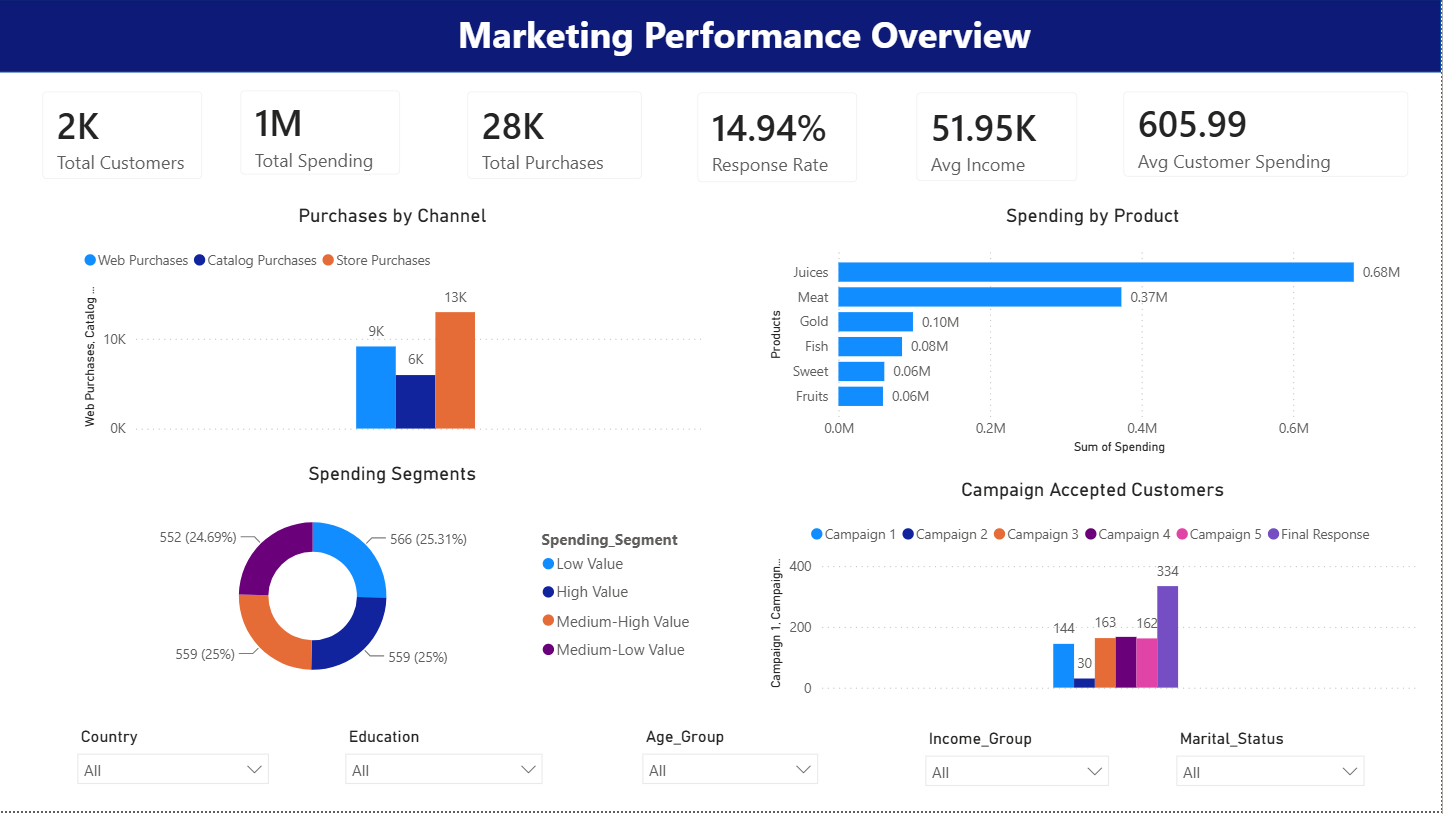

This screenshot's page, from the dashboard's own definition file:
{"tool":"powerbi","page":{"name":"Marketing Performance Overview","canvas":[1280,720],"ordinal":0},"visuals":[{"type":"cardVisual","fields":{"Data":["_Measures.Total Customers"]},"box":[21.9,64.8,176.1,112.2],"z":0},{"type":"cardVisual","fields":{"Data":["_Measures.Total Spending"]},"box":[198,63.9,176.5,110],"z":1000},{"type":"cardVisual","fields":{"Data":["_Measures.Response Rate"]},"box":[603.1,65.7,176.1,114],"z":2000},{"type":"cardVisual","fields":{"Data":["_Measures.Average Income"]},"box":[797.4,65.7,177.3,113.5],"z":3000},{"type":"cardVisual","fields":{"Data":["_Measures.Total Purchases"]},"box":[398.7,64.8,189.8,112.6],"z":4000},{"type":"cardVisual","fields":{"Data":["_Measures.Average Customer Spending"]},"box":[980.5,65.1,287.9,110.5],"z":5000},{"type":"clusteredColumnChart","title":"Purchases by Channel","fields":{"Y":["_Measures.Web Purchases","_Measures.Catalog Purchases","_Measures.Store Purchases"]},"box":[71,181.8,557.5,213.1],"z":6000},{"type":"clusteredBarChart","title":"Spending by Product","fields":{"Category":["Products_Spending.Products"],"Y":["Sum(Products_Spending.Spending)"]},"box":[679.2,181.8,583,226.4],"z":7000},{"type":"donutChart","title":"Spending Segments","fields":{"Category":["marketing_customer_enriched.Spending_Segment"],"Y":["CountNonNull(marketing_customer_enriched.ID)"]},"box":[71.3,410.9,557.1,207.7],"z":8000},{"type":"clusteredColumnChart","title":"Campaign Accepted Customers","fields":{"Y":["Sum(marketing_customer_enriched.AcceptedCmp1)","Sum(marketing_customer_enriched.AcceptedCmp2)","Sum(marketing_customer_enriched.AcceptedCmp3)","Sum(marketing_customer_enriched.AcceptedCmp4)","Sum(marketing_customer_enriched.AcceptedCmp5)","Sum(marketing_customer_enriched.Response)"]},"box":[679.1,425.1,582.8,199.9],"z":9000},{"type":"slicer","fields":{"Values":["marketing_customer_enriched.Country"]},"box":[60.5,640.9,189.8,60.3],"z":10000},{"type":"textbox","box":[229.9,7.3,850.3,56.6],"z":11000},{"type":"slicer","fields":{"Values":["marketing_customer_enriched.Education"]},"box":[298,641.2,195.1,68.6],"z":12000},{"type":"slicer","fields":{"Values":["marketing_customer_enriched.Income_Group"]},"box":[811.9,643.3,183,66.2],"z":13000},{"type":"slicer","fields":{"Values":["marketing_customer_enriched.Age_Group"]},"box":[561.4,640.9,175.6,71.8],"z":14000},{"type":"slicer","fields":{"Values":["marketing_customer_enriched.Marital_Status"]},"box":[1034.7,643.3,186.6,61.4],"z":15000},{"type":"shape","box":[0,0,1280,65.4],"z":15001},{"type":"textbox","box":[236.4,3.7,850.3,56.6],"z":15002}]}

Visuals, with their boxes in screenshot pixels (x1, y1, x2, y2), scaled from the page's 1280x720 canvas onto the 1443x814 screenshot:
cardVisual - _Measures.Total Customers: bbox=[25, 73, 223, 200]
cardVisual - _Measures.Total Spending: bbox=[223, 72, 422, 197]
cardVisual - _Measures.Response Rate: bbox=[680, 74, 878, 203]
cardVisual - _Measures.Average Income: bbox=[899, 74, 1099, 203]
cardVisual - _Measures.Total Purchases: bbox=[449, 73, 663, 201]
cardVisual - _Measures.Average Customer Spending: bbox=[1105, 74, 1430, 199]
"Purchases by Channel" clusteredColumnChart: bbox=[80, 206, 709, 446]
"Spending by Product" clusteredBarChart: bbox=[766, 206, 1423, 461]
"Spending Segments" donutChart: bbox=[80, 465, 708, 699]
"Campaign Accepted Customers" clusteredColumnChart: bbox=[766, 481, 1423, 707]
slicer - marketing_customer_enriched.Country: bbox=[68, 725, 282, 793]
textbox: bbox=[259, 8, 1218, 72]
slicer - marketing_customer_enriched.Education: bbox=[336, 725, 556, 802]
slicer - marketing_customer_enriched.Income_Group: bbox=[915, 727, 1122, 802]
slicer - marketing_customer_enriched.Age_Group: bbox=[633, 725, 831, 806]
slicer - marketing_customer_enriched.Marital_Status: bbox=[1166, 727, 1377, 797]
shape: bbox=[0, 0, 1442, 74]
textbox: bbox=[267, 4, 1225, 68]
